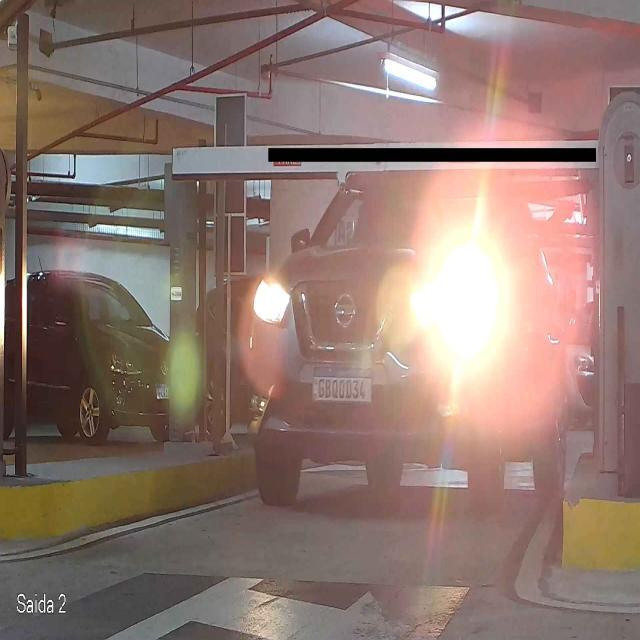mercosul_plate: (310, 366, 374, 404)
